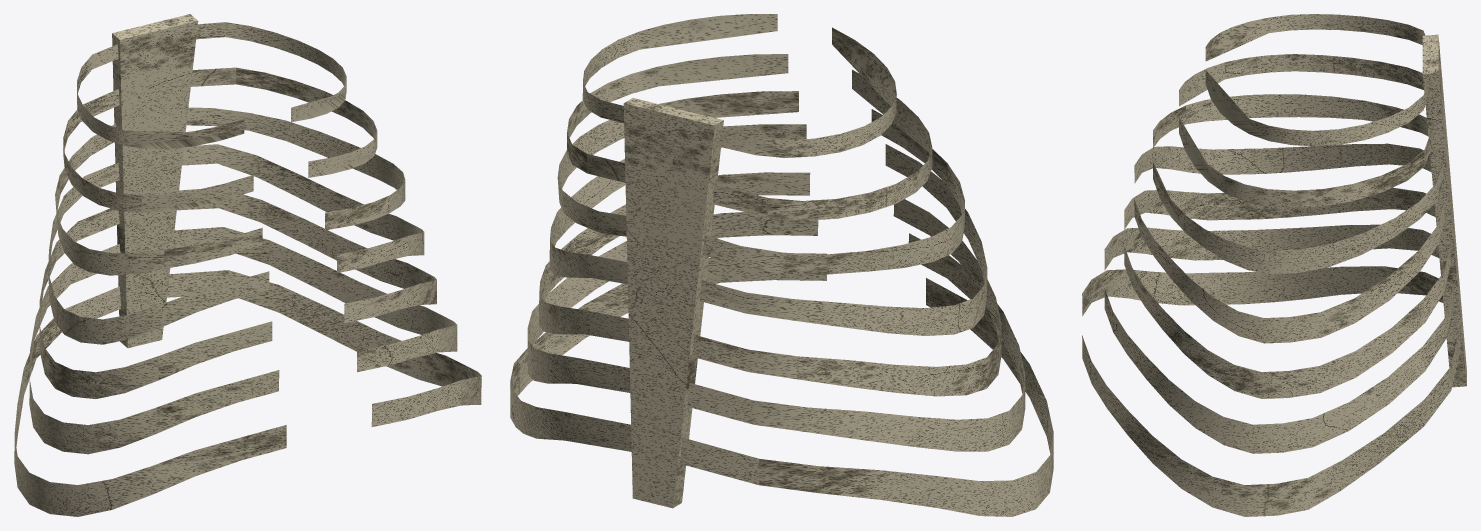
File: rib_cage.fbx
The picture shows the model from 3 angles, left to right: view 1: azimuth 30°, elevation 25°; view 2: azimuth 150°, elevation 25°; view 3: azimuth 270°, elevation 25°; orthographic projection. The views are drawn at different scales.
Parts seen in each view (by area): view 1: Cylinder.001; view 2: Cylinder.001; view 3: Cylinder.001.
Part boxes in pixels (x1,y1,x2,y2): Cylinder.001: (14,14,481,516); Cylinder.001: (510,14,1053,516); Cylinder.001: (1082,14,1466,516).
Bounding box in the file's own units: 281 × 220 × 214.
